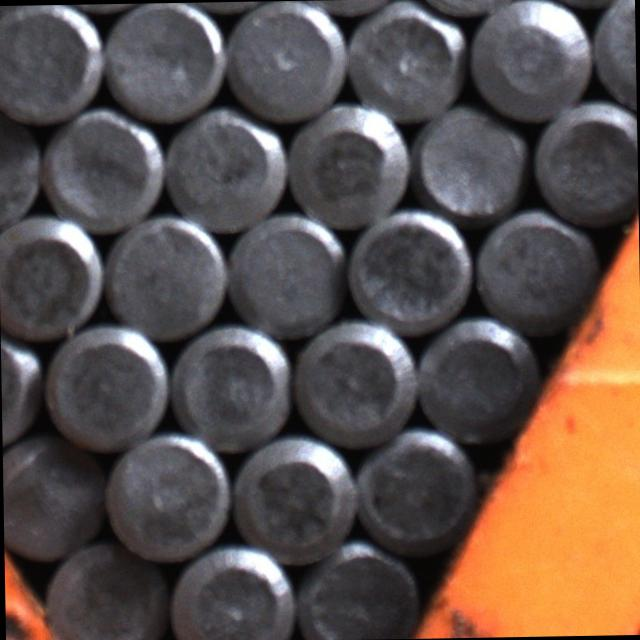tool: (100, 429, 232, 562), (39, 320, 170, 453), (226, 432, 358, 562), (469, 206, 599, 337), (100, 210, 230, 340), (285, 98, 412, 230), (344, 205, 472, 335), (412, 313, 539, 444), (162, 103, 288, 234), (40, 103, 166, 234), (222, 208, 347, 339), (352, 425, 478, 553), (292, 318, 418, 446), (170, 322, 294, 452), (463, 0, 593, 123), (341, 0, 467, 124), (220, 0, 347, 123), (99, 2, 227, 122), (409, 99, 531, 221), (528, 100, 638, 228), (2, 430, 107, 562), (39, 535, 170, 640), (0, 210, 102, 340), (296, 536, 421, 640), (165, 542, 294, 640), (0, 3, 104, 124)
